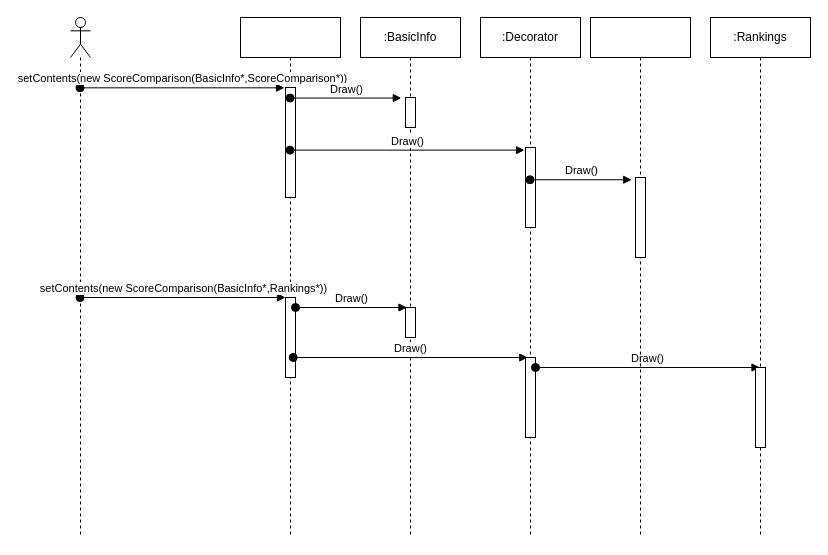
Some shapes in this 828 by 555 pixel diagram are drawn without their labels. The centre of each missing label's shape, as x and y in pixels:
":ContestWindow" belongs at (290,277).
":ScoreComparison" belongs at (640,277).
